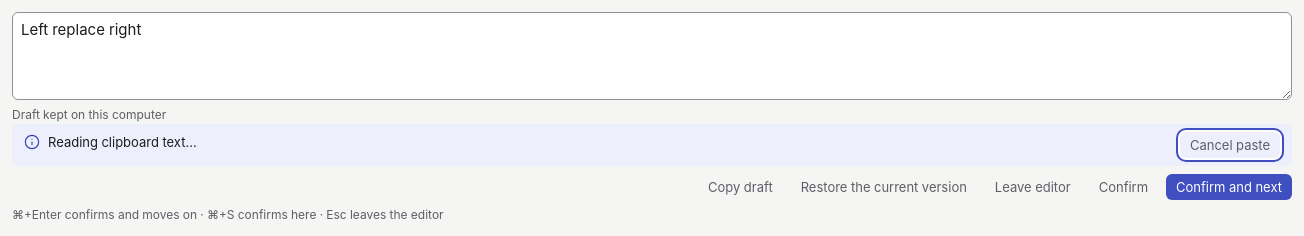
Test: cancels a pending paste from its keyboard reachable action and ignores the later clipboard result
Expected: the text "Reading clipboard text…" is shown, [48, 134, 197, 150]
Click the button "Cancel paste". click: (1230, 145)
box: [1180, 132, 1280, 158]
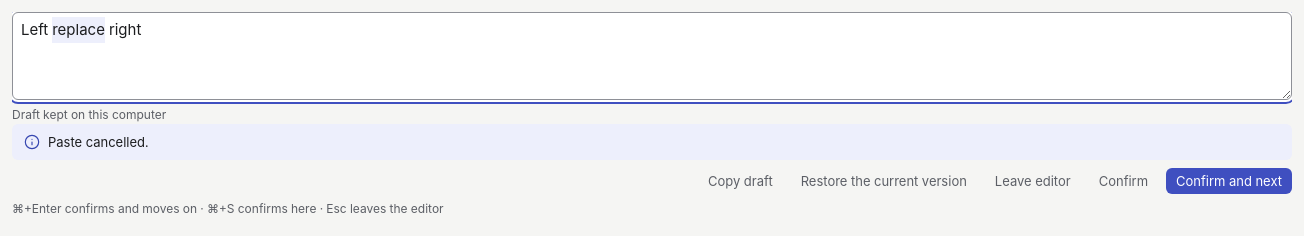
Expected: the text box named "Translation for dialogue.hello" holds "Left replace right", [12, 12, 1292, 100]
Result: the text "Paste cancelled." is shown at [48, 134, 148, 150]
